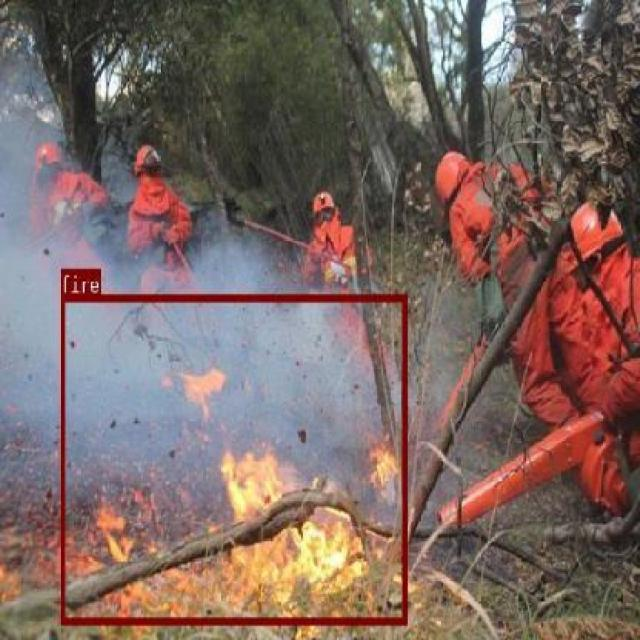fire: (59, 293, 407, 624)
